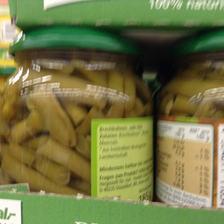beans: (4, 30, 154, 207), (159, 28, 224, 208)
